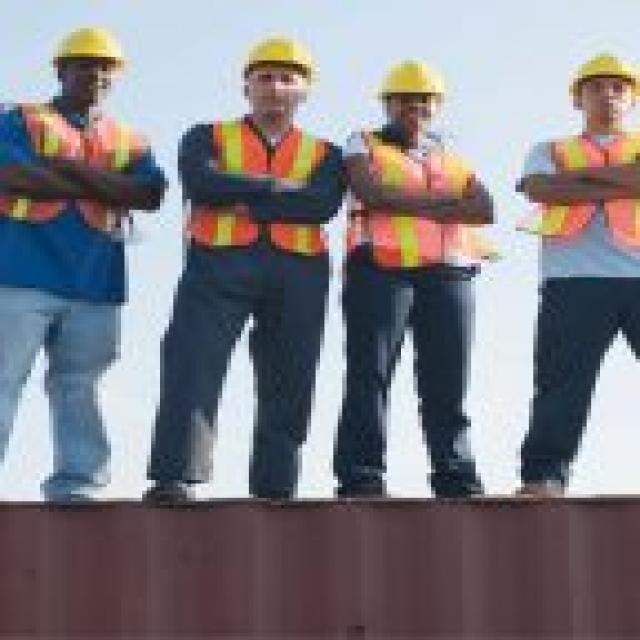Reflective-Jacket: (182, 118, 329, 260), (0, 103, 147, 242), (347, 135, 480, 277), (529, 124, 640, 260)
Safety-Helmet: (555, 46, 640, 99), (236, 28, 324, 78), (369, 53, 449, 103), (44, 22, 129, 68)
